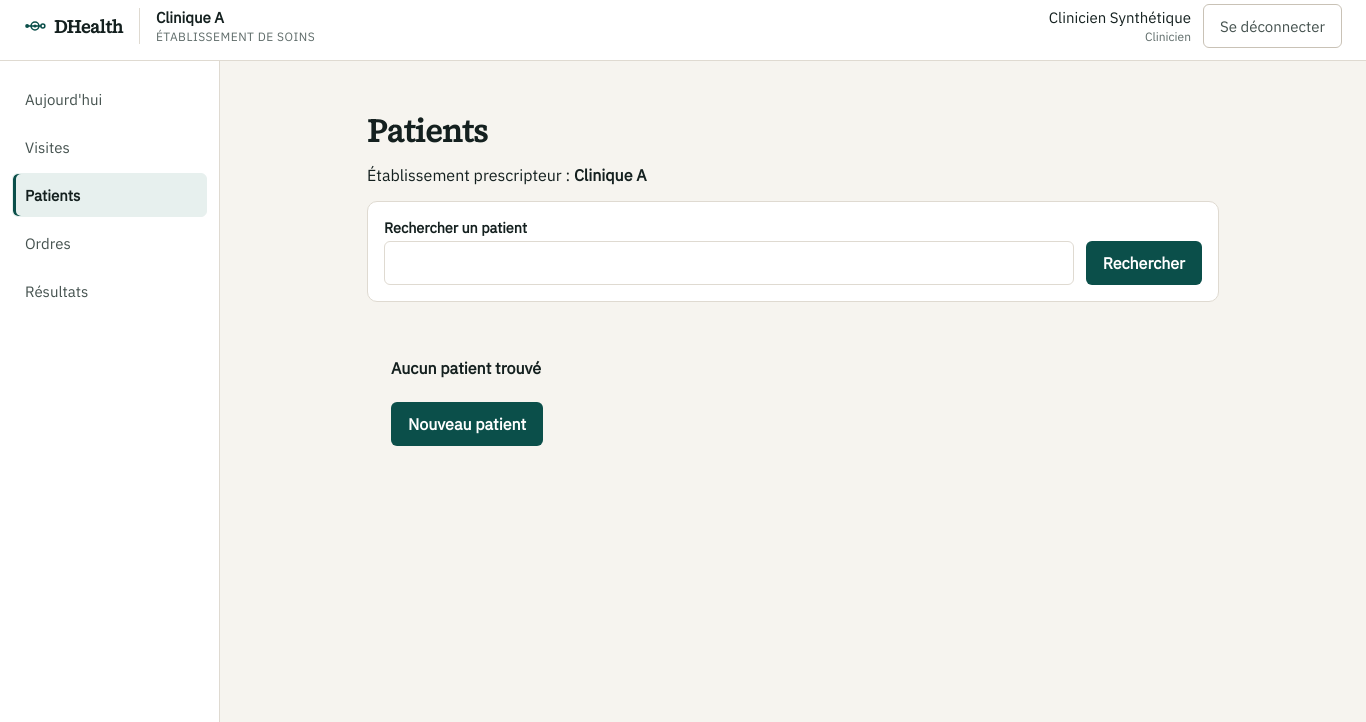
Test: Clinic native patient workflow › reuses the original opaque identity and payload after an ambiguous response and tab navigation
Expected: the text "Aucun patient trouvé" is shown, top-left (391, 358), bottom-right (541, 378)
Click the button "Nouveau patient" at (467, 424), box top-left (391, 402), bottom-right (543, 446)
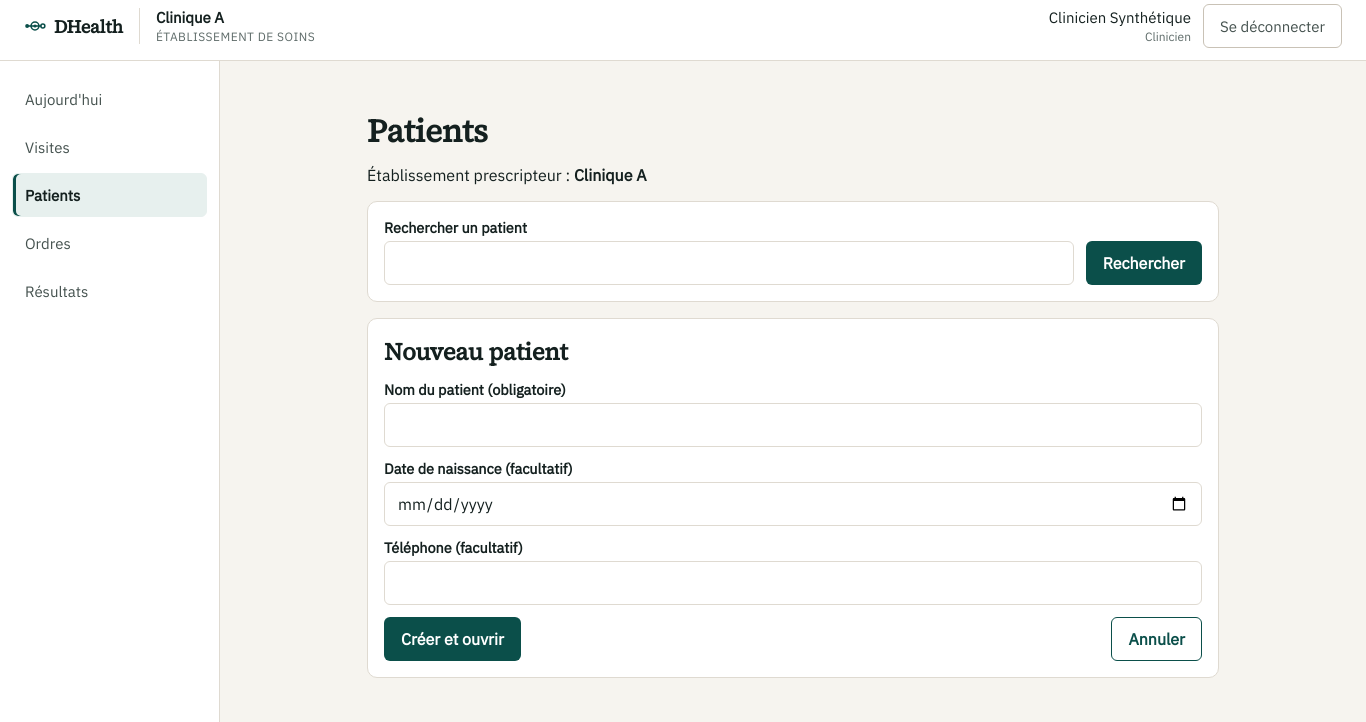
Type "Patient Synthétique" into the field labelled "Nom du patient (obligatoire)" at (793, 425), box top-left (384, 403), bottom-right (1202, 447)
Type "+25377000000" into the field labelled "Téléphone (facultatif)" at (793, 583), box top-left (384, 561), bottom-right (1202, 605)
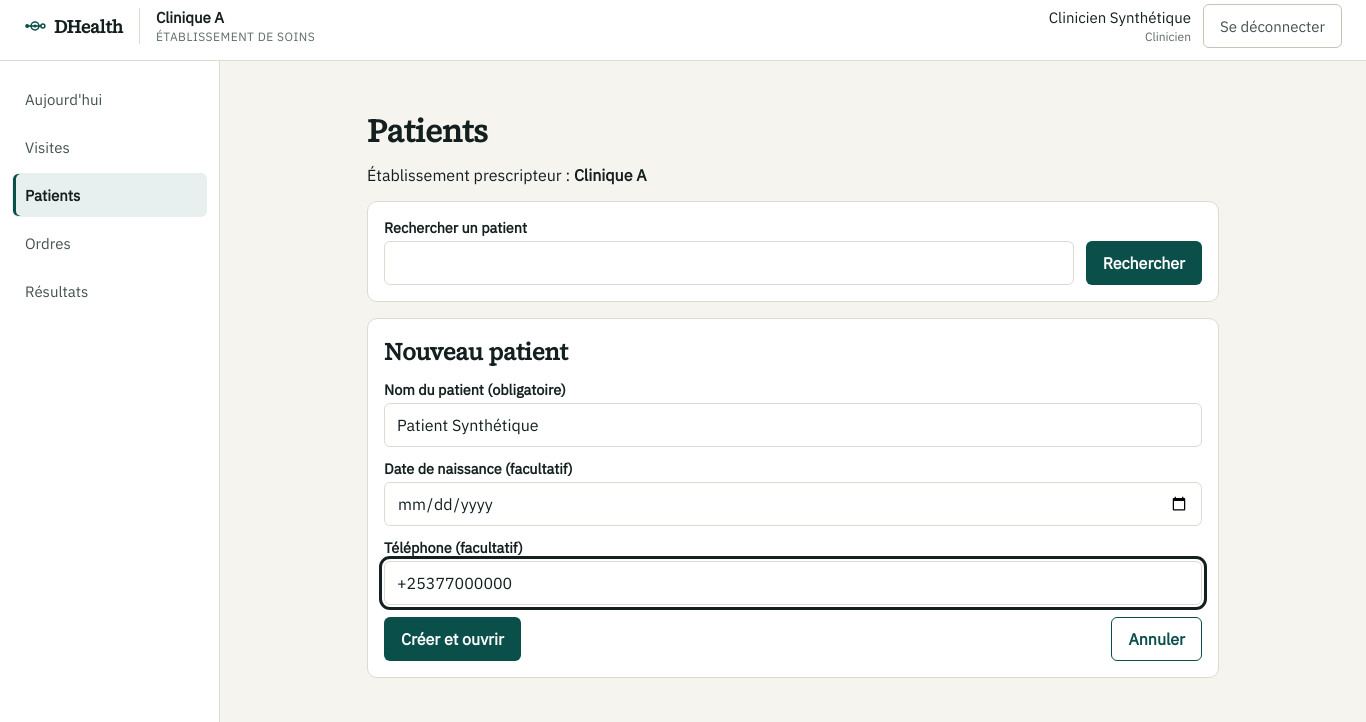
Click the button "Créer et ouvrir" at (452, 639), box top-left (384, 617), bottom-right (521, 661)
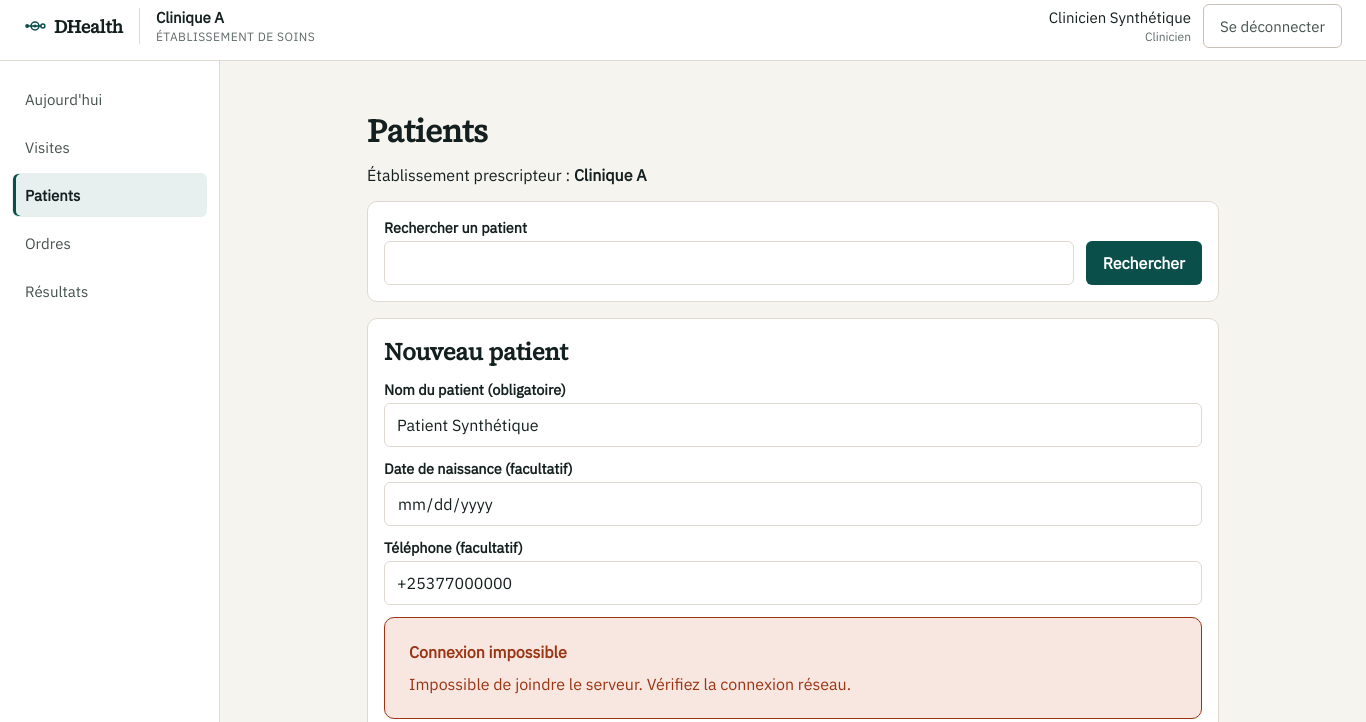
Click the button "Aujourd'hui" at (110, 99), box top-left (12, 77), bottom-right (207, 121)
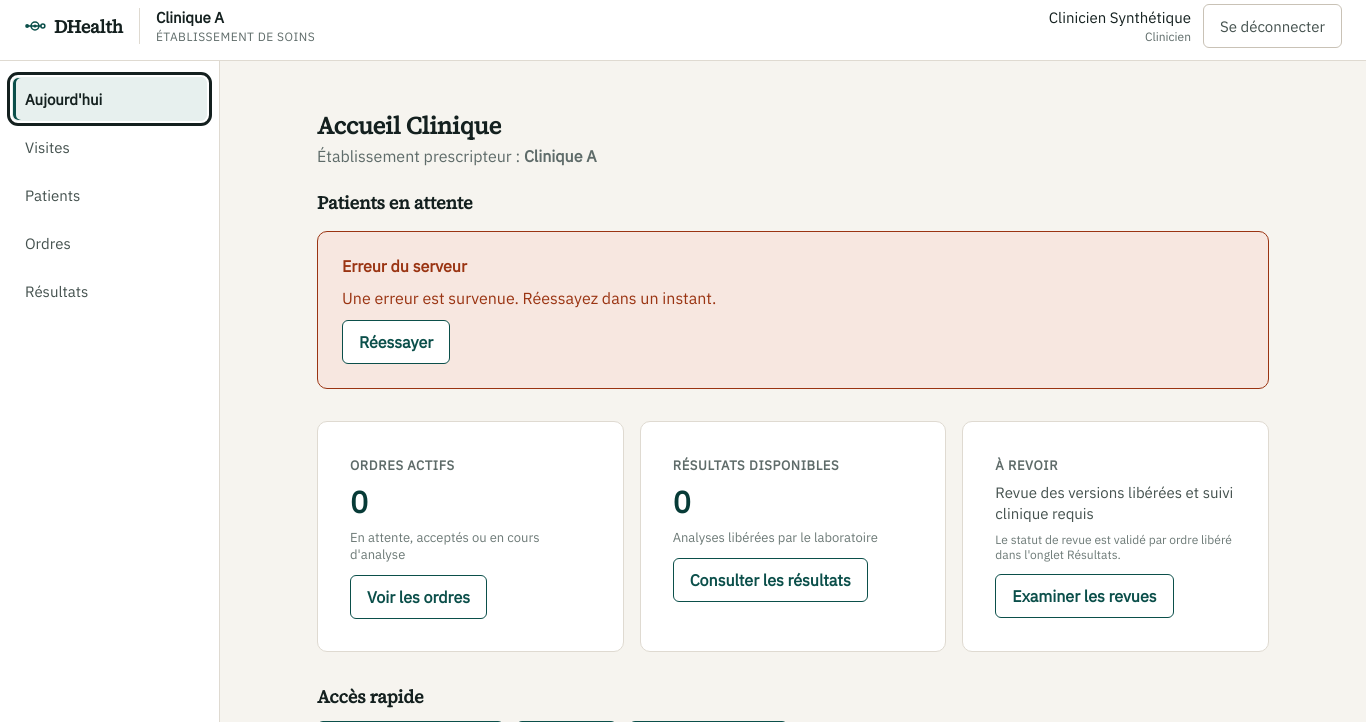
Result: the heading "Accueil Clinique" is shown at top-left (317, 109), bottom-right (501, 142)
Click the button "Patients" at (110, 195), box top-left (12, 173), bottom-right (207, 217)
(page scrolled)
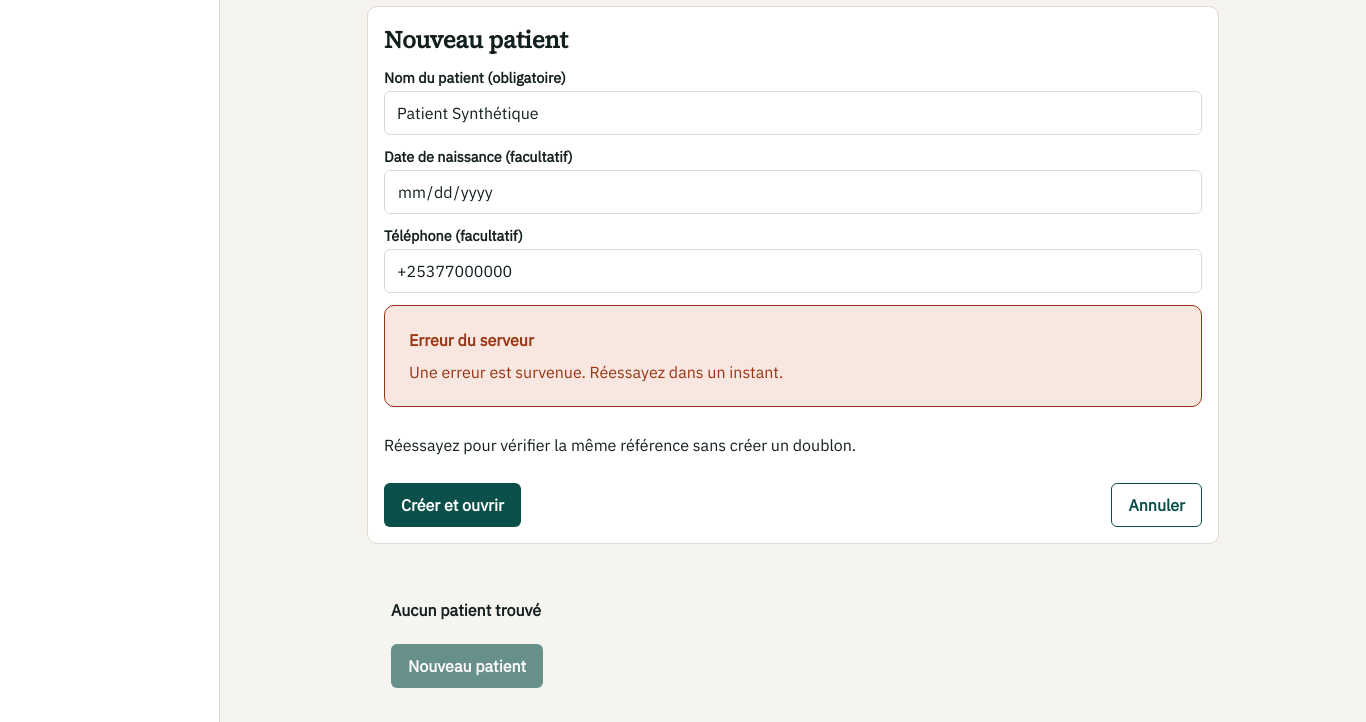
Result: the heading "Nouveau patient" is shown at top-left (384, 23), bottom-right (568, 56)
Result: the field labelled "Nom du patient (obligatoire)" is disabled at top-left (384, 91), bottom-right (1202, 135)
Click the button "Créer et ouvrir" at (452, 505), box top-left (384, 483), bottom-right (521, 527)
(page scrolled)
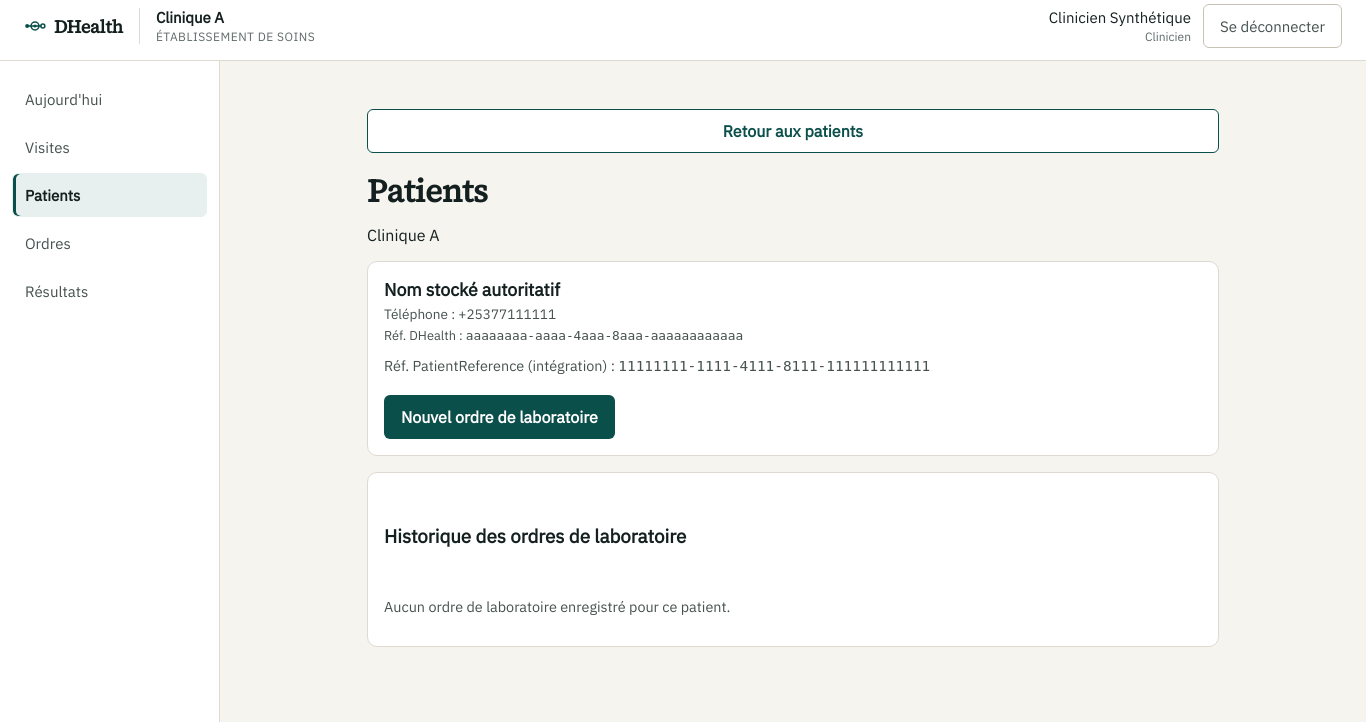
Result: the text "Téléphone : +25377111111" is shown at top-left (384, 305), bottom-right (556, 323)
